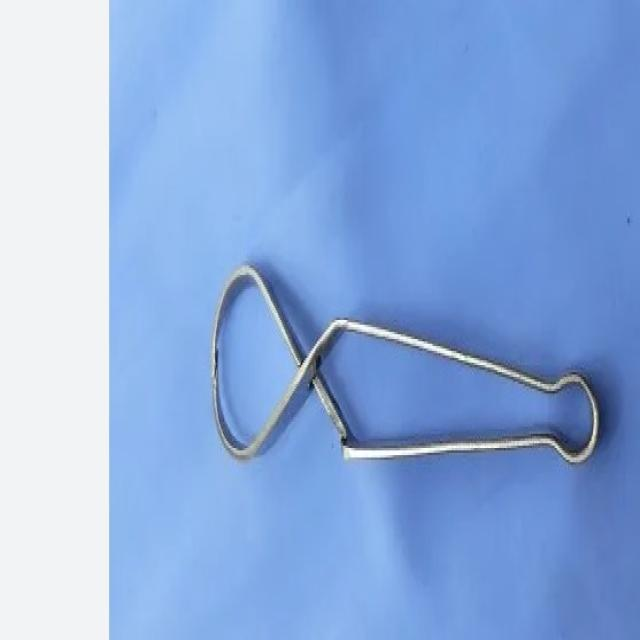Doyen Cross Action Towel Clamp: (205, 250, 600, 480)
